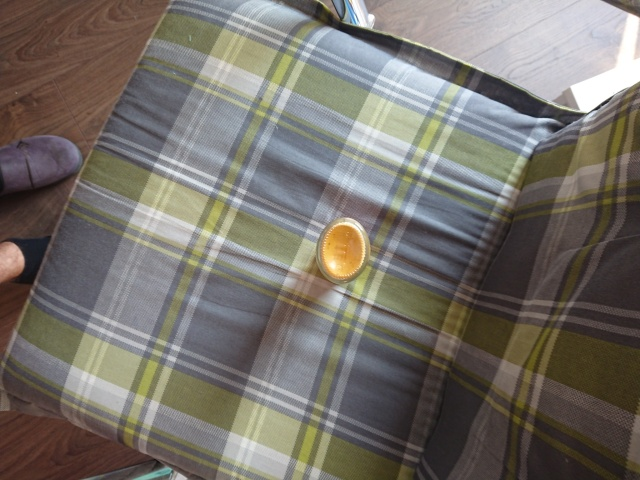Kotanyi Curry Spices Mix 70g: (314, 214, 372, 287)
